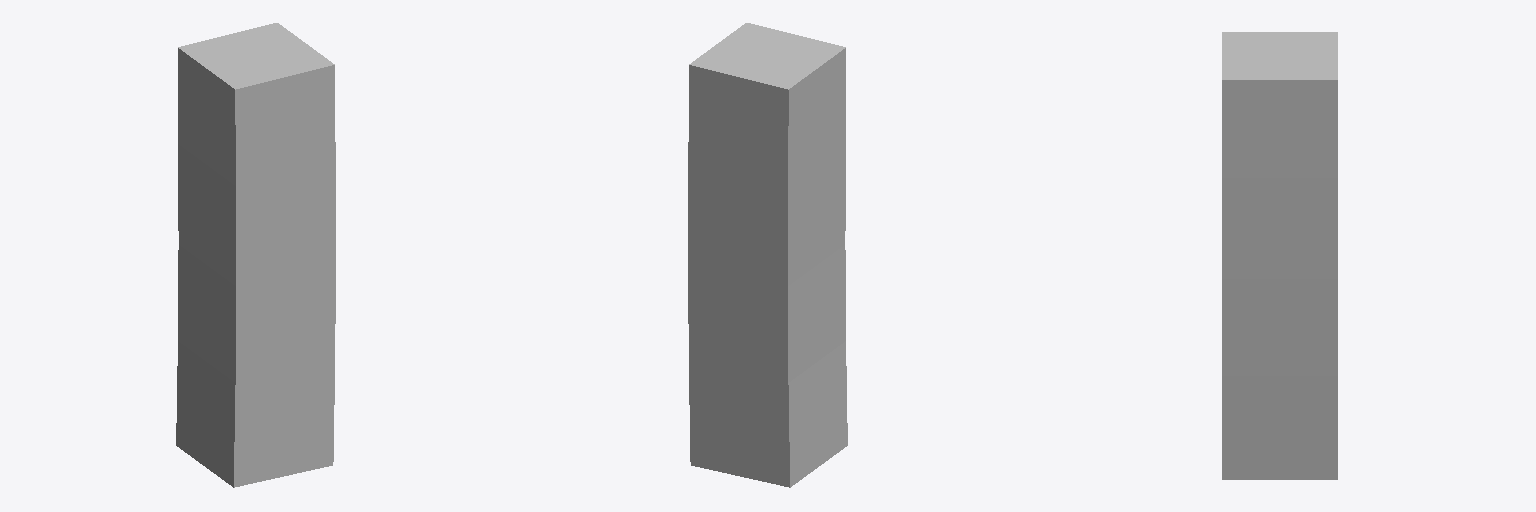
Rendered from Animation_000079.obj.
3 views of the same model, side by side, from view 1: azimuth 30°, elevation 25°; view 2: azimuth 150°, elevation 25°; view 3: azimuth 270°, elevation 25° (orthographic).
Visible parts, largest first — view 1: Cube; view 2: Cube; view 3: Cube.
Part boxes in pixels (x1,y1,x2,y2): Cube: (176, 23, 335, 487); Cube: (688, 23, 847, 487); Cube: (1222, 32, 1337, 479).
Size of the model in its own units: 1.36 by 5.11 by 1.33.